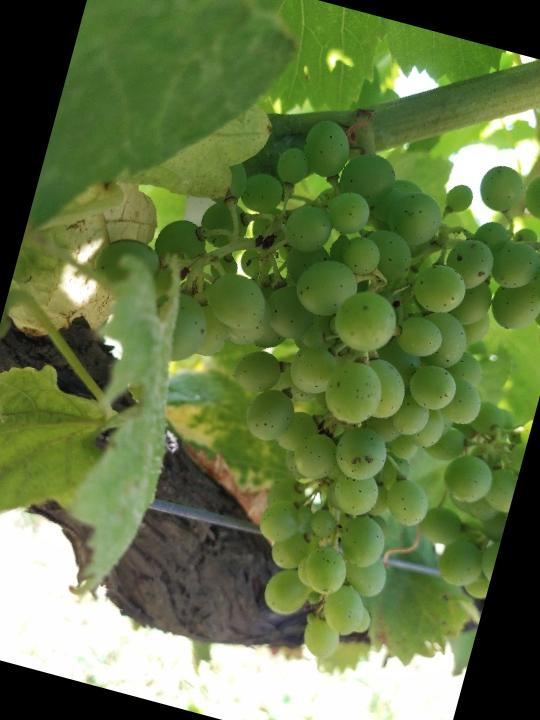grape: (4, 65, 540, 698)
